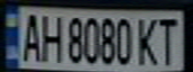0: (115, 15, 136, 66), (81, 14, 100, 65)
8: (63, 12, 84, 64), (100, 14, 118, 66)
A: (15, 10, 45, 63)
H: (36, 11, 63, 63)
K: (133, 14, 163, 68)
T: (154, 14, 184, 66)
